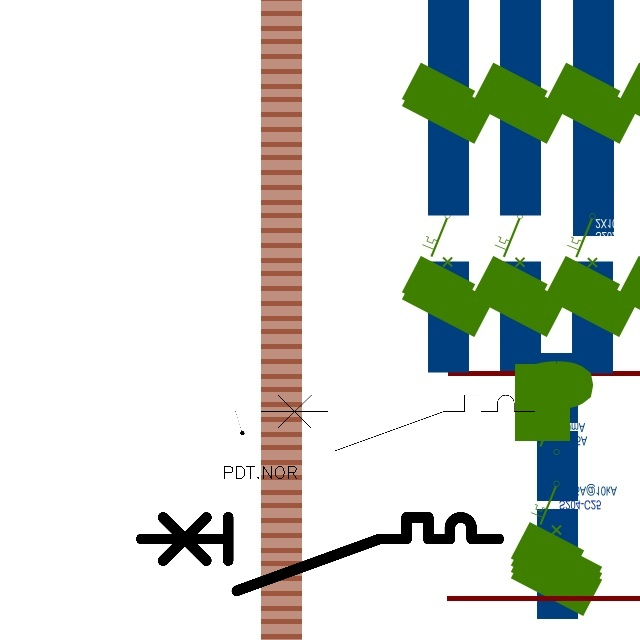interruptor_termomagnetico: (132, 508, 508, 600), (254, 388, 541, 458)
